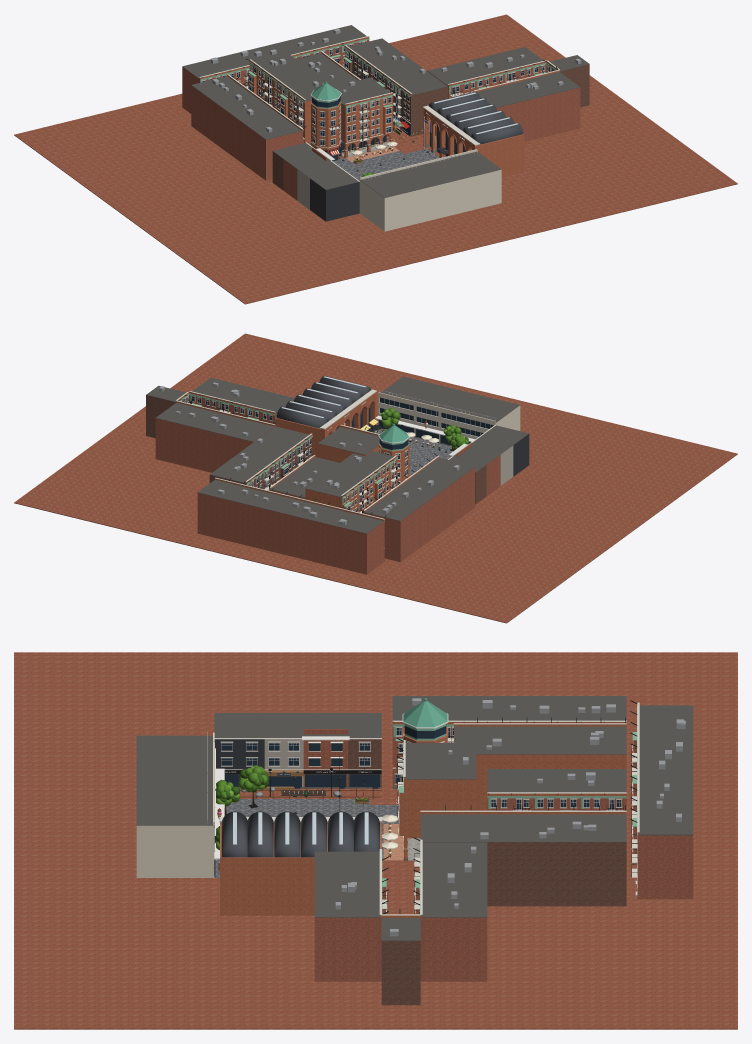
The model's file is dunant.glb.
3 renders of one model, top to bottom at view 1: azimuth 30°, elevation 25°; view 2: azimuth 150°, elevation 25°; view 3: azimuth 270°, elevation 25°, orthographic. The views are drawn at different scales.
Visible parts, largest first — view 1: Ground_Klinkers, Road2_W, Gemeentehuis, Road_E, East_Road_S, South_Block_W, Cap_N, Road2_E, Galerij, East_Road_N, South_Block_E, Left_Eetcafe (+8 smaller); view 2: Ground_Klinkers, Cap_N, Road2_W, East_Road_N, Gemeentehuis, Road2_E, Road_E, South_Block_W, East_Road_S, South_Block_E, Galerij, IJssalon_Block (+8 smaller); view 3: Ground_Klinkers, Road_E, Gemeentehuis, Cap_N, East_Road_N, East_Road_S, Road2_E, Road2_W, South_Block_E, Galerij, Road_W, South_Block_W (+10 smaller).
Part boxes in pixels (bbox=[...]): Ground_Klinkers: bbox=[14, 14, 737, 304]; Road2_W: bbox=[191, 74, 306, 180]; Gemeentehuis: bbox=[423, 92, 524, 176]; Road_E: bbox=[341, 38, 447, 136]; East_Road_S: bbox=[473, 66, 580, 141]; South_Block_W: bbox=[359, 164, 439, 231]; Cap_N: bbox=[182, 25, 369, 113]; Road2_E: bbox=[246, 52, 332, 144]; Galerij: bbox=[332, 77, 393, 157]; East_Road_N: bbox=[427, 47, 546, 98]; South_Block_E: bbox=[440, 149, 501, 211]; Left_Eetcafe: bbox=[310, 170, 359, 221]; Ground_Klinkers: bbox=[14, 333, 737, 623]; Cap_N: bbox=[197, 477, 386, 574]; Road2_W: bbox=[363, 453, 475, 562]; East_Road_N: bbox=[155, 400, 276, 472]; Gemeentehuis: bbox=[275, 376, 377, 457]; Road2_E: bbox=[305, 451, 399, 513]; Road_E: bbox=[209, 426, 312, 490]; South_Block_W: bbox=[436, 391, 520, 446]; East_Road_S: bbox=[187, 377, 294, 426]; South_Block_E: bbox=[375, 376, 439, 437]; Galerij: bbox=[317, 424, 379, 462]; IJssalon_Block: bbox=[412, 385, 464, 443]; Ground_Klinkers: bbox=[14, 652, 737, 1029]; Road_E: bbox=[420, 805, 626, 906]; Gemeentehuis: bbox=[219, 811, 382, 915]; Cap_N: bbox=[630, 700, 693, 899]; East_Road_N: bbox=[413, 837, 487, 981]; East_Road_S: bbox=[314, 849, 388, 981]; Road2_E: bbox=[453, 717, 626, 810]; Road2_W: bbox=[392, 696, 626, 788]; South_Block_E: bbox=[136, 793, 219, 877]; Galerij: bbox=[396, 738, 476, 860]; Road_W: bbox=[487, 769, 626, 810]; South_Block_W: bbox=[136, 732, 224, 811].
Size of the model in its own units: 160 by 23.25 by 130.
75 materials, 7 textured.
